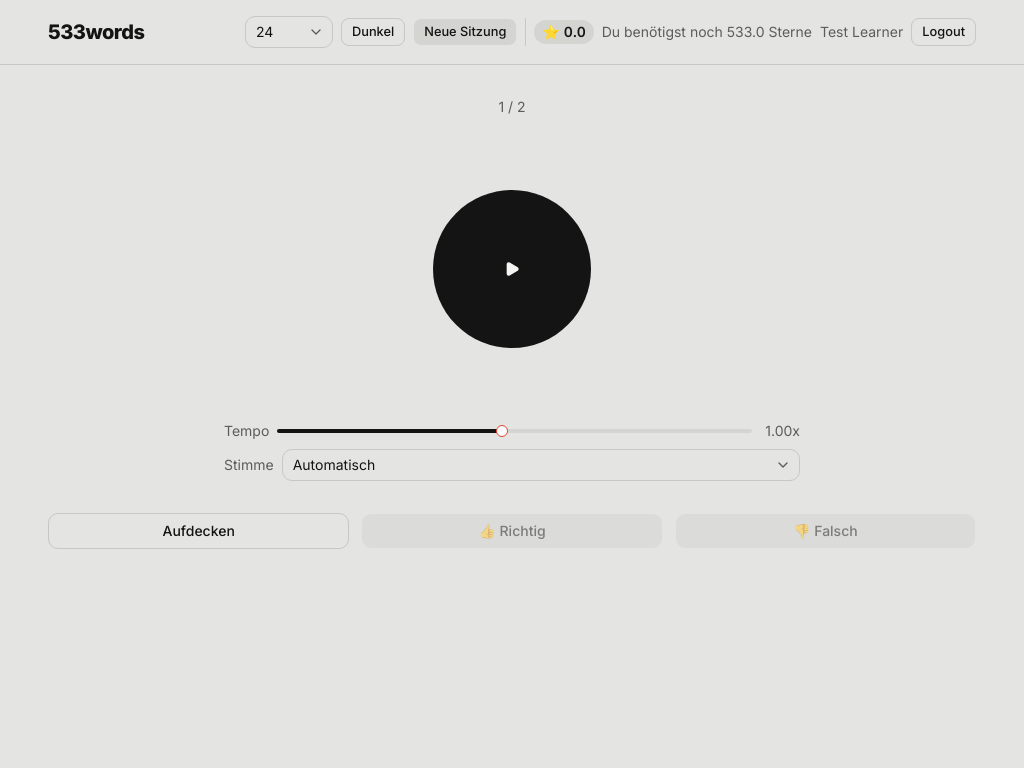
Test: Home practice screen › shows an error alert and does not auto-advance when the flag mutation fails
The image size is (1024, 768).
Expected: the button named "abspielen" is shown, [432,189,592,349]
Click the button "Aufdecken". click: click(199, 531)
box: [48,513,349,549]
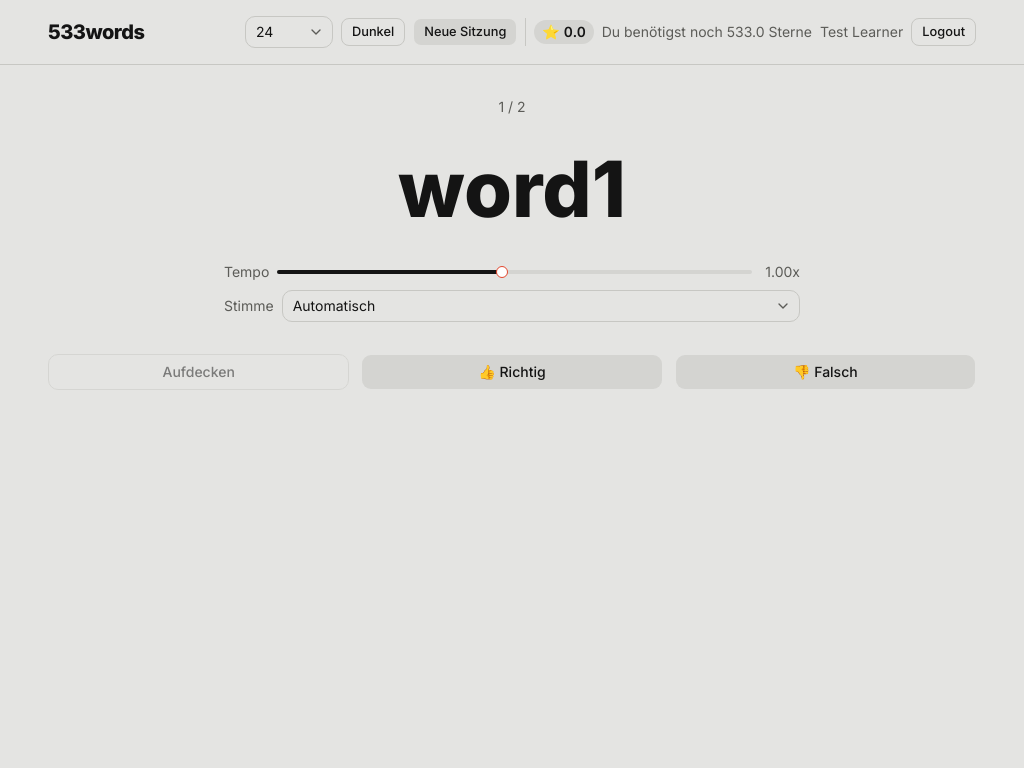
Click the button "👍 Richtig". click: click(512, 372)
box: [361,354,663,390]
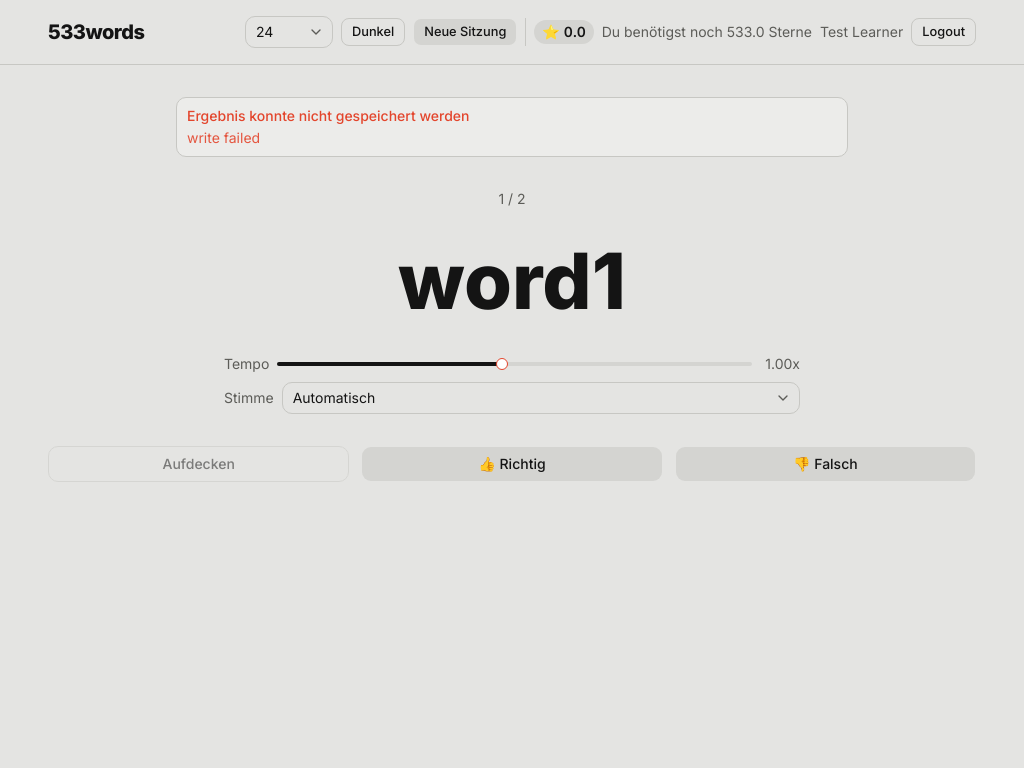
Expected: the button "👍 Richtig" is enabled, [361,446,663,482]
Expected: the button "👎 Falsch" is enabled, [675,446,976,482]
Expected: the message "Ergebnis konnte nicht gespeichert werden write failed" is shown, [176,97,848,157]
